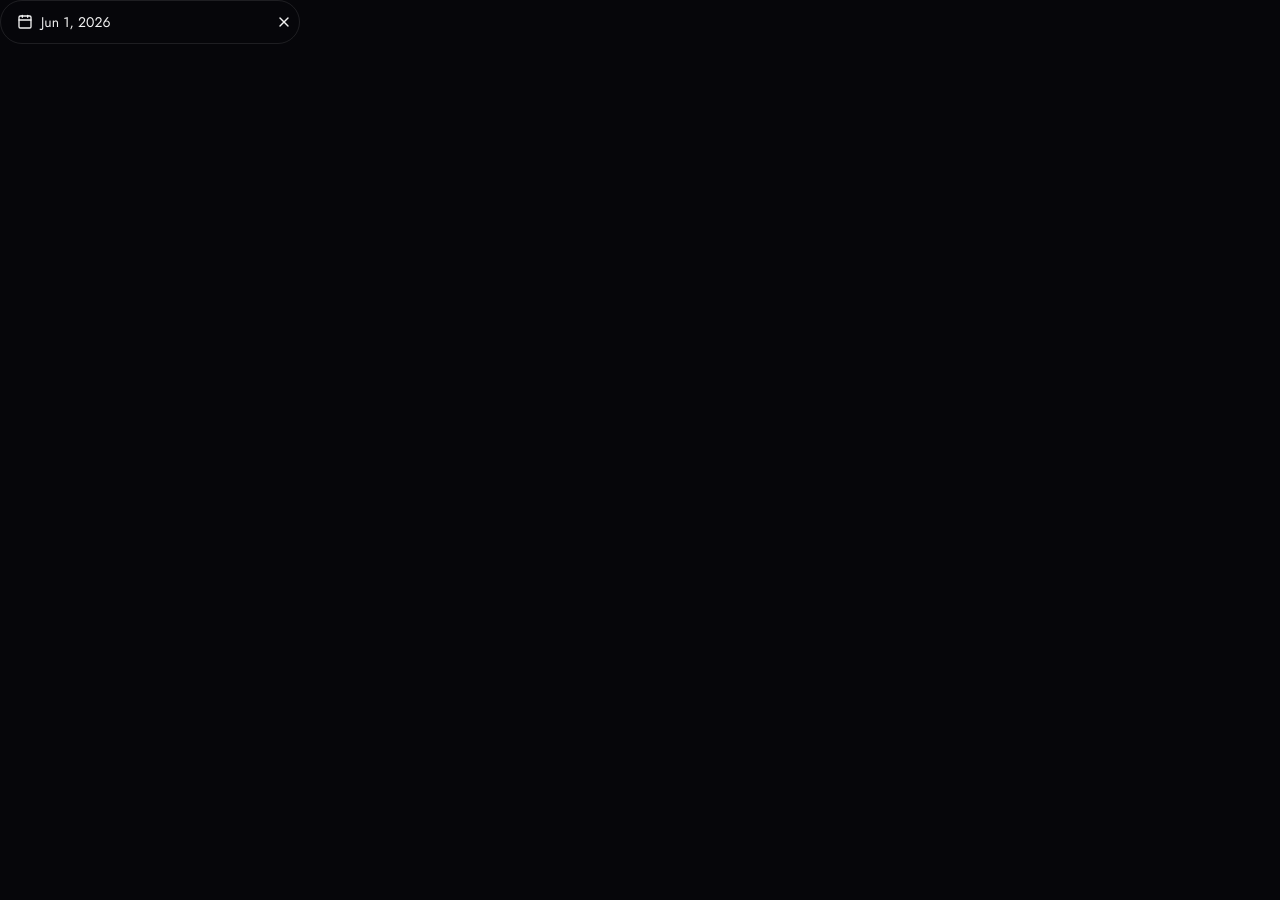
Test case: DateRangePicker › opens the calendar when the trigger is clicked
The width and height of the screenshot is (1280, 900).
Click the dropdown.
click(76, 22)  # box 0,0 -> 300,44
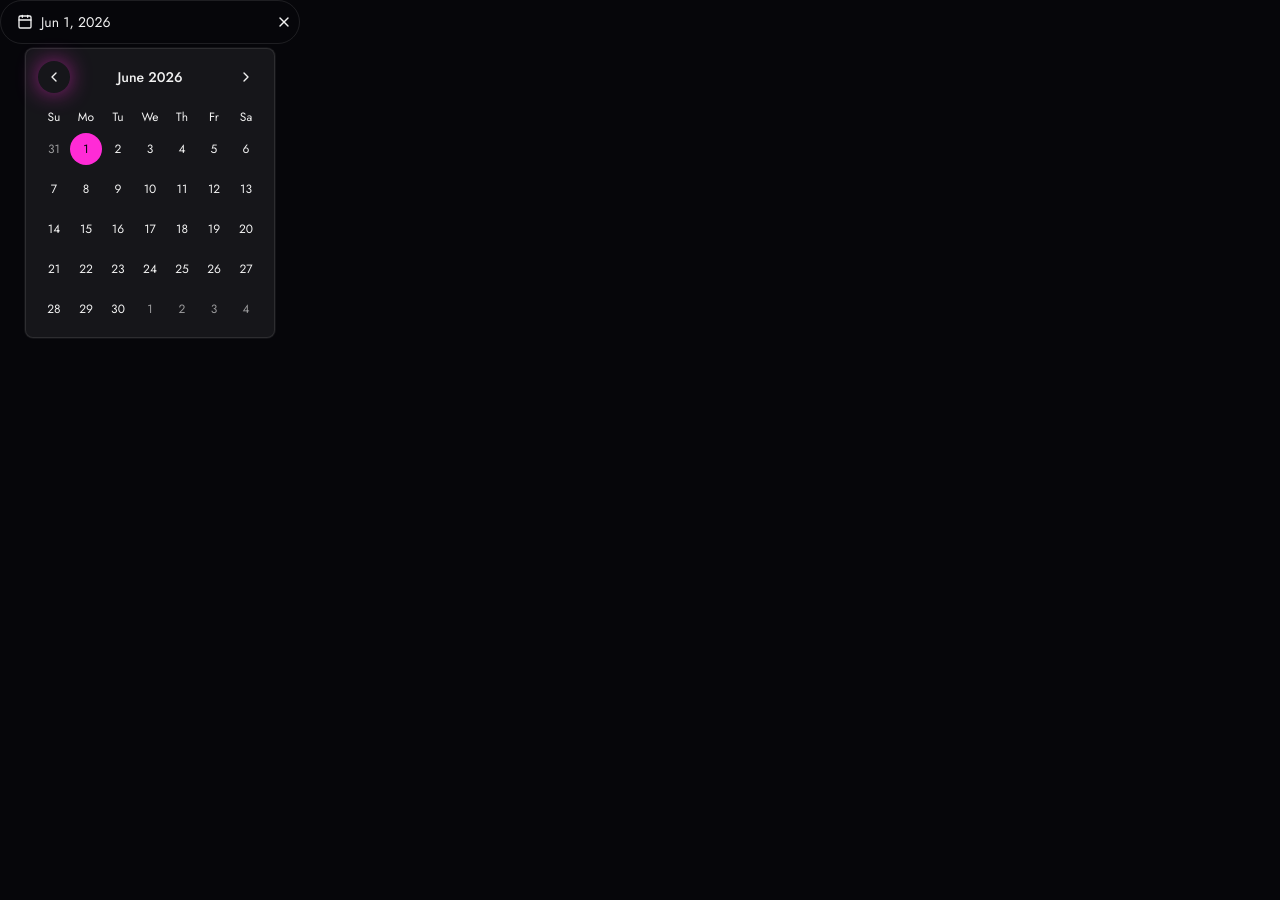
Now the text "June 2026" is shown, box 117,67 -> 182,87
